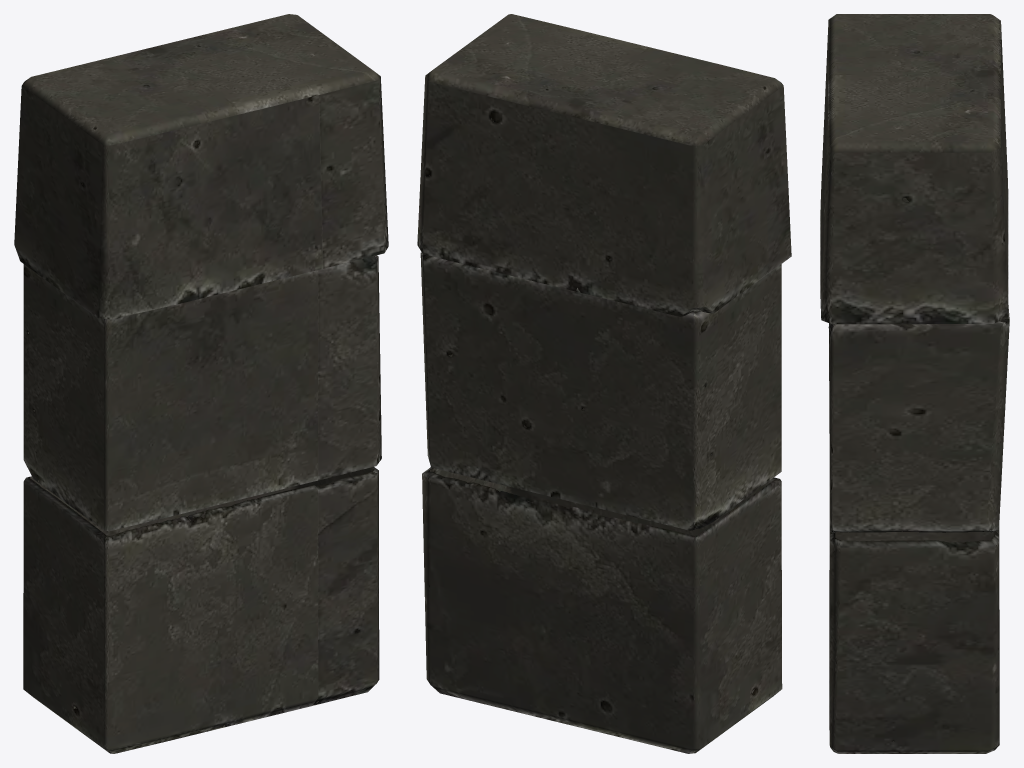
3 renders of one model, left to right at view 1: azimuth 30°, elevation 25°; view 2: azimuth 150°, elevation 25°; view 3: azimuth 270°, elevation 25°, orthographic.
Parts seen in each view (by area): view 1: SM_Greathall_WallEnd_4m_LOD0; view 2: SM_Greathall_WallEnd_4m_LOD0; view 3: SM_Greathall_WallEnd_4m_LOD0.
Boxes of the visible parts, x1,y1,x2,y2 form: SM_Greathall_WallEnd_4m_LOD0: (14,14,388,753); SM_Greathall_WallEnd_4m_LOD0: (417,14,791,753); SM_Greathall_WallEnd_4m_LOD0: (820,14,1009,753).
Size of the model in its own units: 1.98 by 4 by 1.12.
Materials: 1 (1 with a texture image).
